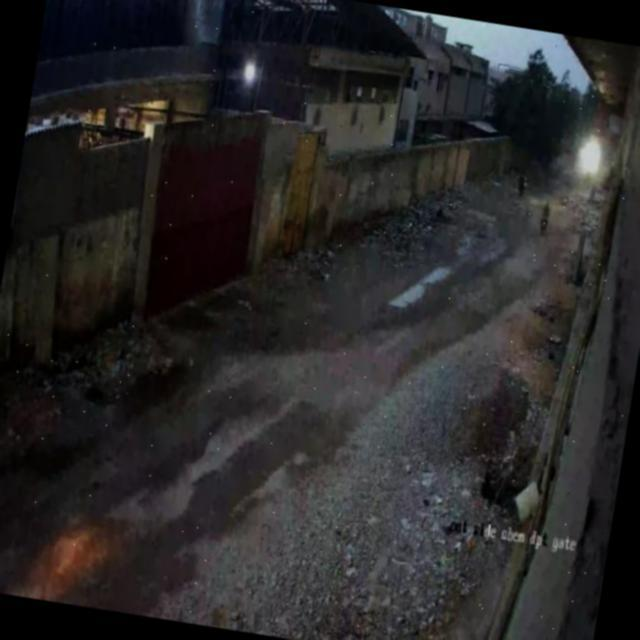person: (542, 200, 552, 226)
